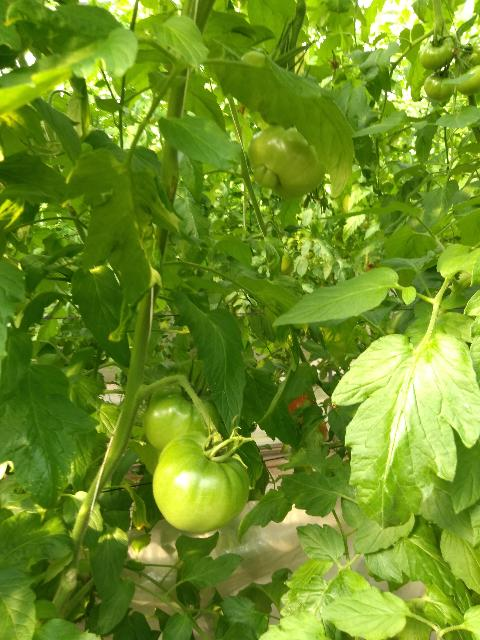b_green: (152, 432, 250, 533), (246, 123, 328, 199), (143, 381, 219, 451), (423, 68, 456, 101), (419, 38, 453, 70), (455, 65, 480, 96)
